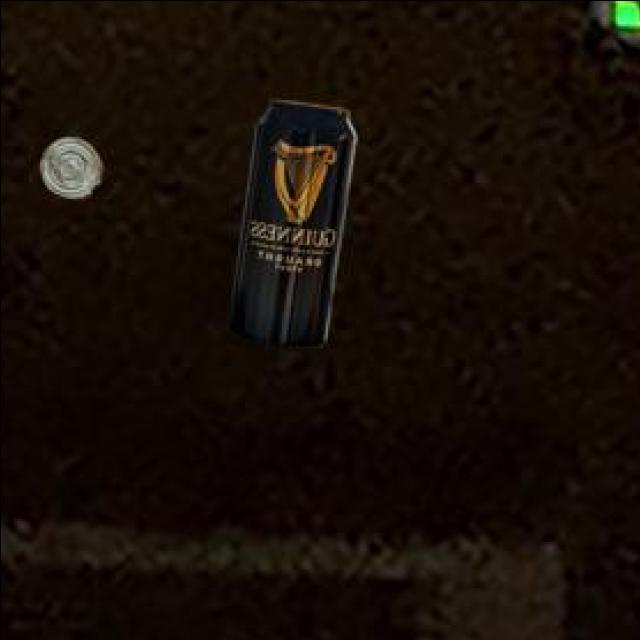logam: (231, 96, 358, 344), (43, 132, 105, 195)
